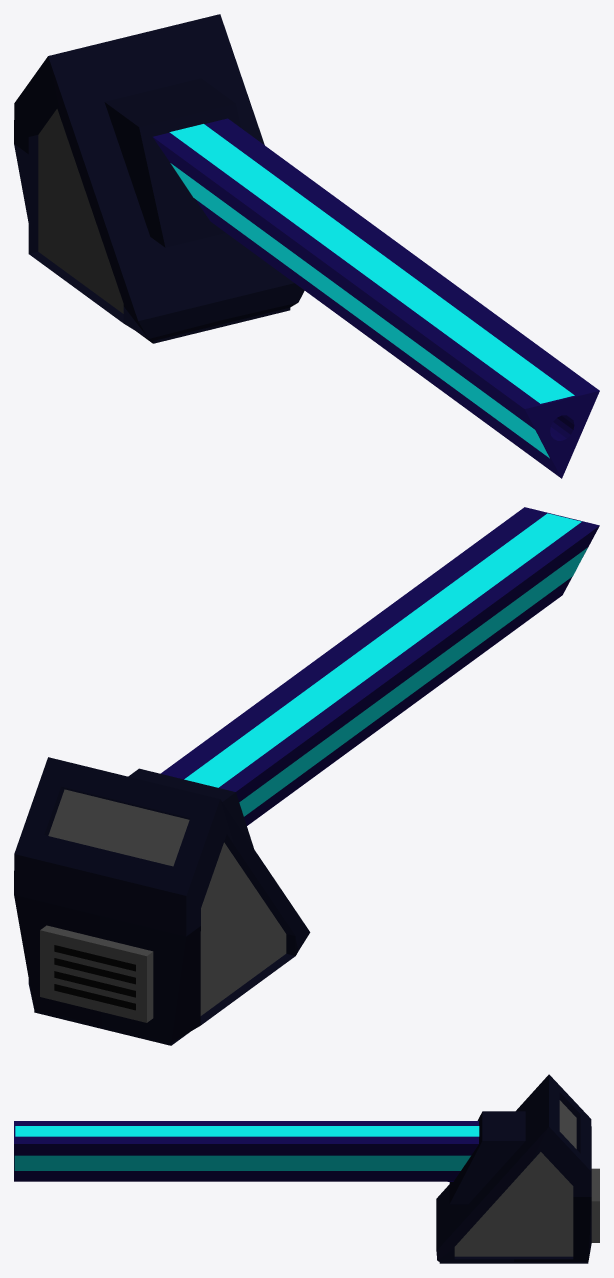
Rendered from railgun.glb.
3 views of the same model, one above another, from view 1: azimuth 30°, elevation 25°; view 2: azimuth 150°, elevation 25°; view 3: azimuth 270°, elevation 25° (orthographic). The views are drawn at different scales.
Parts seen in each view (by area): view 1: Base, Gun, Plane.001; view 2: Base, Gun, Plane.001, Plane.002; view 3: Base, Gun, Plane.001.
Boxes of the visible parts, x1,y1,x2,y2 form: Base: (14,14,304,343); Gun: (153,118,599,478); Plane.001: (169,124,574,458); Base: (14,757,310,1045); Gun: (160,507,599,825); Plane.001: (184,513,587,816); Plane.002: (54,945,135,1010); Base: (436,1074,599,1263); Gun: (14,1121,478,1181); Plane.001: (14,1126,479,1170).
Size of the model in its own units: 0.841 by 1.06 by 3.97.
